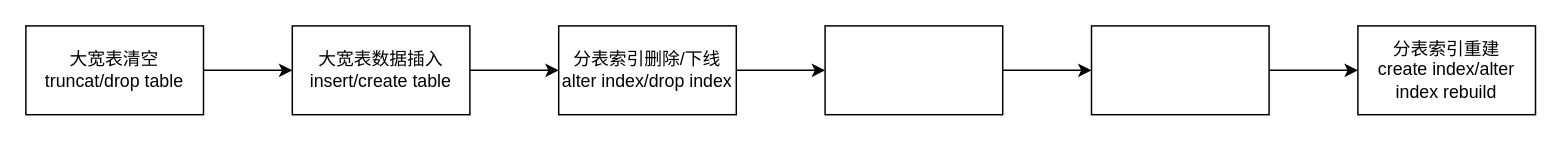
This 1561x141 diagram has some shape labels left out. The shapes that lost their labels are listed below. From the top down, each one's centre as x and y in pixels, then its label:
pixel 913 69: 分表数据清空 truncat/drop table
pixel 1179 69: 分表数据插入 insert/create table
